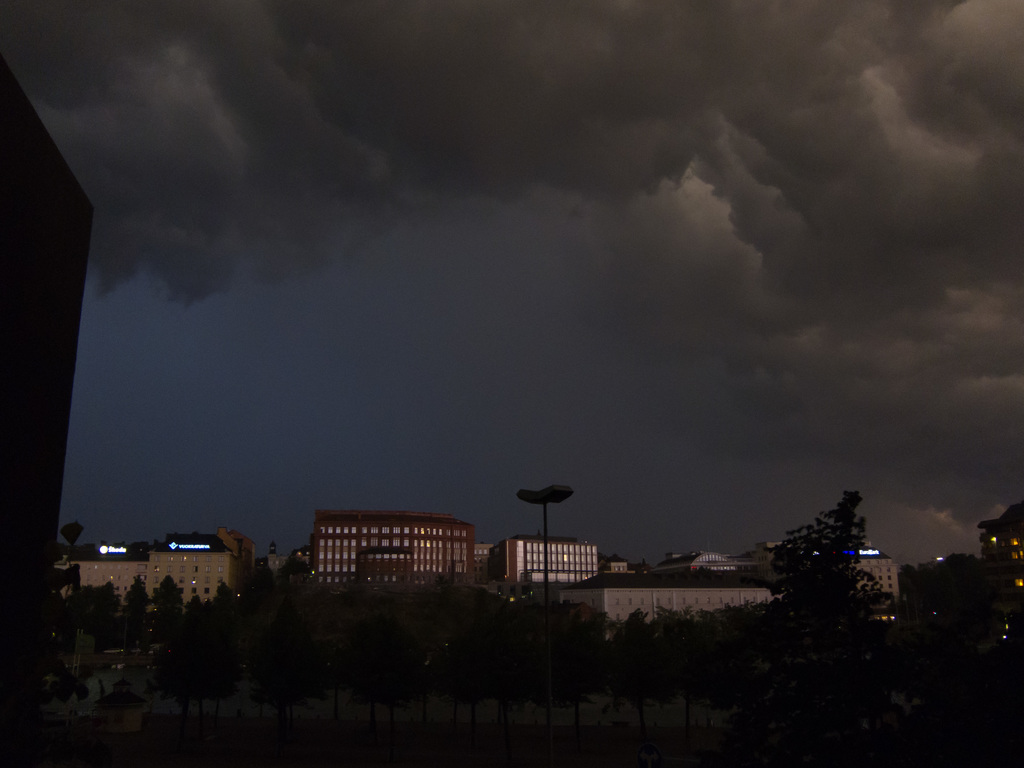Tree: (49, 490, 1023, 768)
